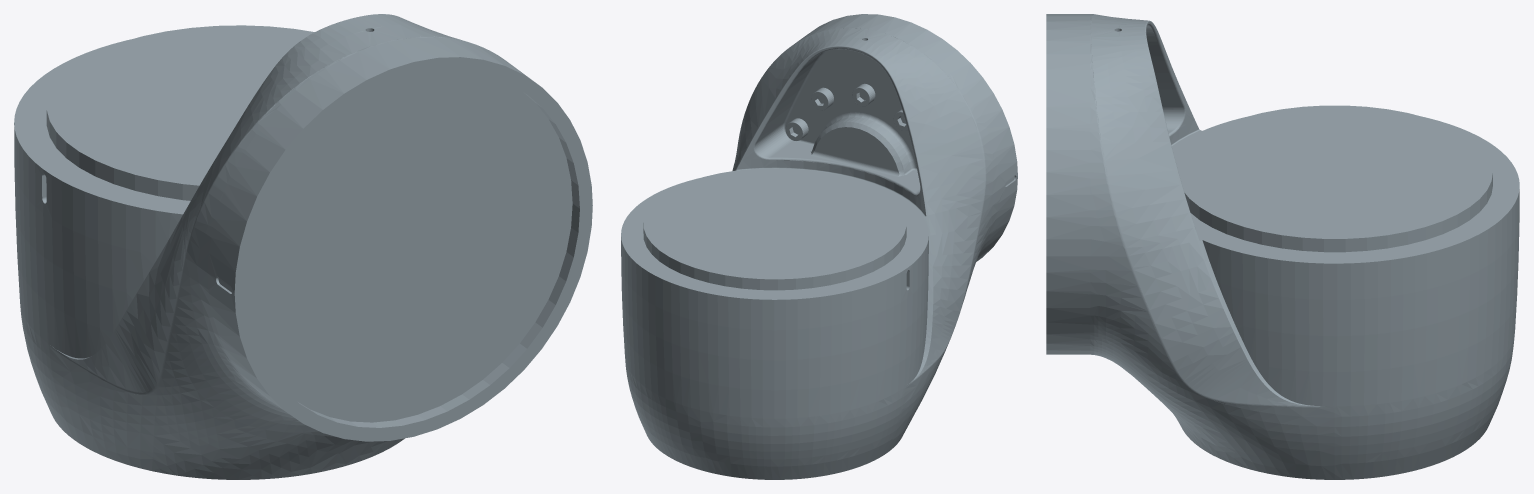
3 renders of one model, left to right at view 1: azimuth 30°, elevation 25°; view 2: azimuth 150°, elevation 25°; view 3: azimuth 270°, elevation 25°, orthographic. The views are drawn at different scales.
Visible parts, largest first — view 1: link1; view 2: link1; view 3: link1.
Part boxes in pixels (x1,y1,x2,y2): link1: [14, 14, 592, 479]; link1: [621, 14, 1017, 479]; link1: [1046, 14, 1519, 479].
Size of the model in its own units: 0.152 by 0.174 by 0.1946.
